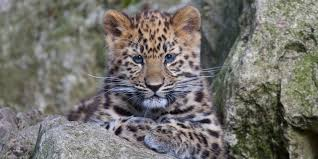amur_leopard: (81, 6, 238, 152)
